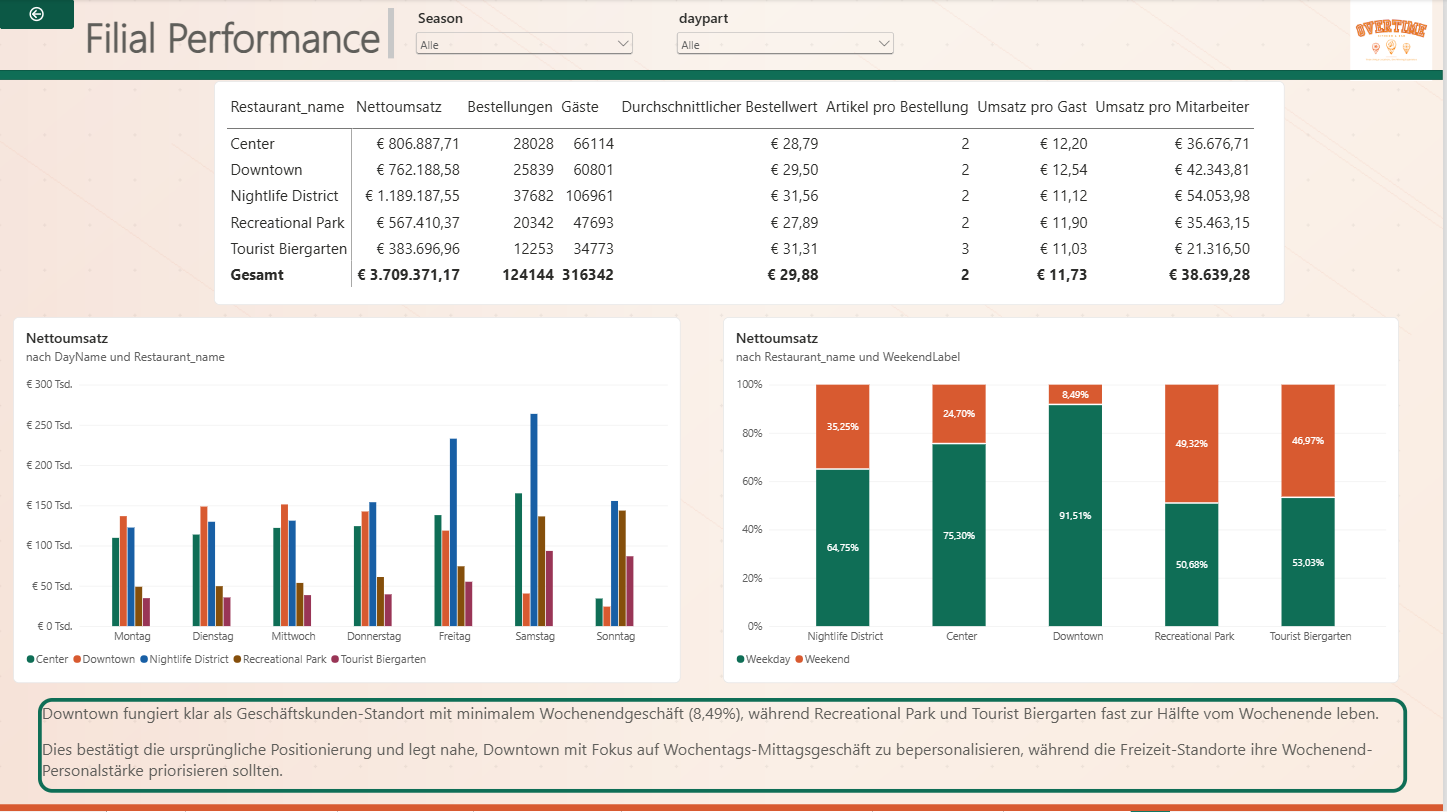

Layout of this report page (visuals, bound fields, positions):
{"tool":"powerbi","page":{"name":"Filialperformance","canvas":[1920,1080],"ordinal":2},"visuals":[{"type":"image","box":[1781.7,0,138.3,109.1],"z":0},{"type":"pivotTable","fields":{"Rows":["dim_restaurants.restaurant_name"],"Values":["DAX Formula.Net Sales","DAX Formula.Orders","DAX Formula.Guests","DAX Formula.Average Order Value","DAX Formula.Items per Order","DAX Formula.Sales per Guest","DAX Formula.Sales per Employee"]},"box":[286,109.1,1424.5,297.9],"z":1000},{"type":"textbox","box":[114.4,12,411,69.2],"z":2000},{"type":"shape","box":[0,94.4,1920,13.3],"z":3000},{"type":"clusteredColumnChart","fields":{"Category":["DimDate.DayName"],"Series":["dim_restaurants.Restaurant_name"],"Y":["DAX Formula.Net Sales"]},"box":[18.6,423,888.5,486.8],"z":4000},{"type":"actionButton","box":[0,0,100,40],"z":5000},{"type":"hundredPercentStackedColumnChart","fields":{"Category":["dim_restaurants.Restaurant_name"],"Series":["DimDate.WeekendLabel"],"Y":["DAX Formula.Net Sales"]},"box":[963,423,899.1,486.8],"z":6000},{"type":"slicer","fields":{"Values":["DimDate.Season"]},"box":[549.3,12,299.3,77.1],"z":7000},{"type":"slicer","fields":{"Values":["dim_time.daypart"]},"box":[896.5,12,299.3,77.1],"z":8000},{"type":"textbox","box":[51.9,929.7,1820.8,126.4],"z":9000}]}

Visuals, with their boxes in screenshot pixels (x1, y1, x2, y2), scaled from the page's 1920x1080 canvas onto the 1447x812 screenshot:
image: (left=1343, top=0, right=1446, bottom=82)
pivotTable - dim_restaurants.restaurant_name x DAX Formula.Net Sales: (left=216, top=82, right=1289, bottom=306)
textbox: (left=86, top=9, right=396, bottom=61)
shape: (left=0, top=71, right=1446, bottom=81)
clusteredColumnChart - DimDate.DayName x dim_restaurants.Restaurant_name: (left=14, top=318, right=684, bottom=684)
actionButton: (left=0, top=0, right=75, bottom=30)
hundredPercentStackedColumnChart - dim_restaurants.Restaurant_name x DimDate.WeekendLabel: (left=726, top=318, right=1403, bottom=684)
slicer - DimDate.Season: (left=414, top=9, right=640, bottom=67)
slicer - dim_time.daypart: (left=676, top=9, right=901, bottom=67)
textbox: (left=39, top=699, right=1411, bottom=794)
